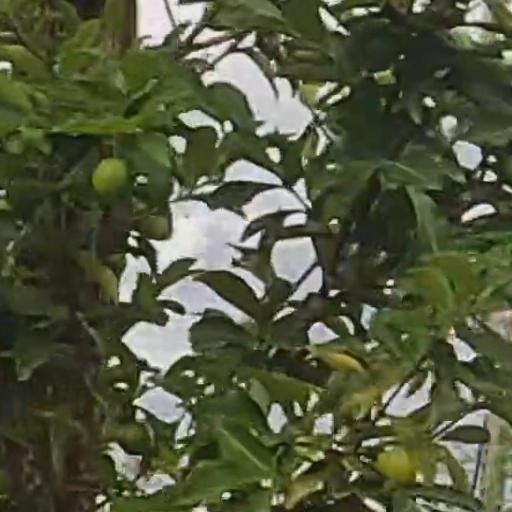acerola_verde: (377, 451, 417, 487), (93, 158, 127, 200)
